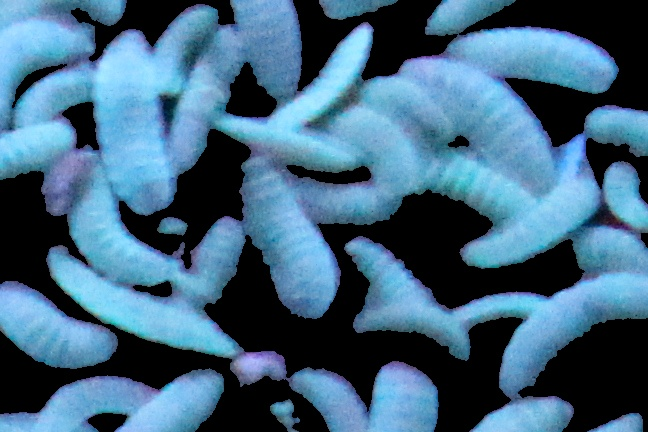larvae: (49, 249, 238, 357), (405, 56, 551, 185), (497, 276, 648, 395), (238, 164, 343, 318), (94, 28, 176, 209), (462, 167, 598, 271), (163, 22, 247, 170), (71, 169, 179, 284), (444, 26, 619, 94), (271, 21, 378, 121), (1, 17, 93, 130), (1, 280, 119, 367), (220, 111, 360, 173), (329, 103, 421, 194), (425, 150, 537, 219), (32, 375, 161, 432), (228, 1, 303, 96), (356, 297, 468, 358), (125, 368, 226, 432), (362, 73, 454, 142), (146, 4, 217, 91), (175, 219, 246, 305), (365, 356, 445, 432), (292, 172, 404, 225), (10, 62, 94, 126), (347, 239, 433, 301), (289, 365, 366, 432), (1, 118, 78, 184), (598, 161, 648, 234), (453, 287, 541, 328), (475, 397, 576, 432), (587, 104, 648, 156)
